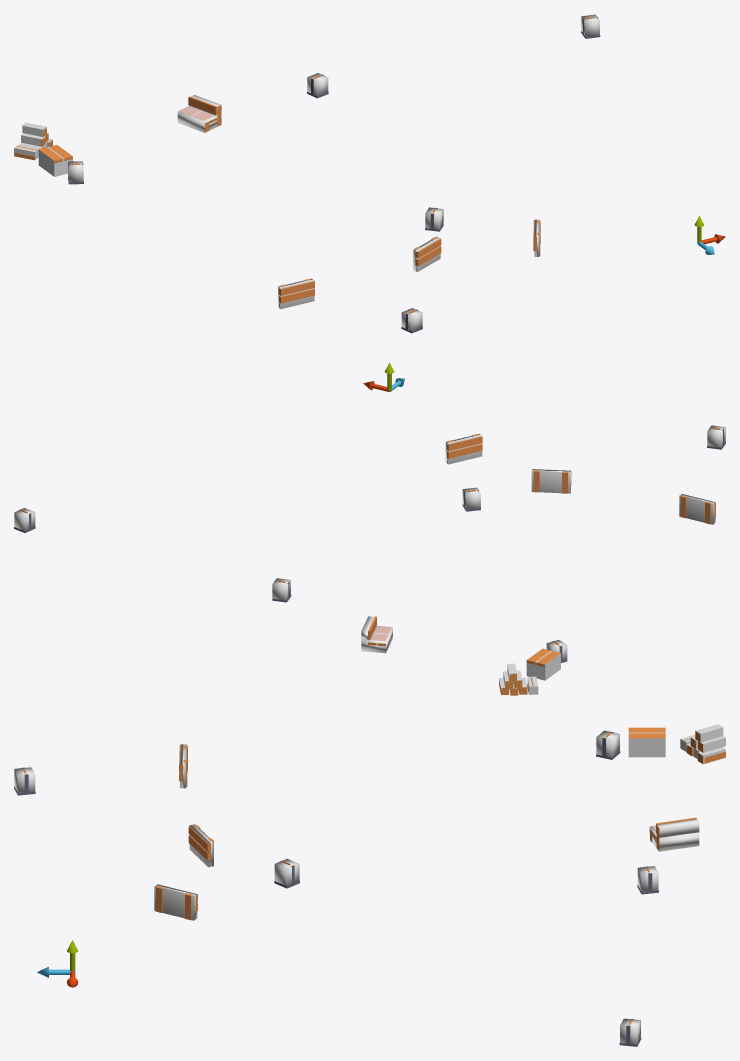
Rendered from sceneryDynamic.glb.
The picture shows the model from 3 angles, top to bottom: view 1: azimuth 30°, elevation 25°; view 2: azimuth 150°, elevation 25°; view 3: azimuth 270°, elevation 25°; orthographic projection. The views are drawn at different scales.
Visible parts, largest first — view 1: bench, fence.002, cube, cube.017; view 2: cube.003, cube.002, cube.017, fence.004; view 3: cube.005, cube.017, cube, cube.001, Cube.048, gizmo.
Boxes of the visible parts, x1=… form: bench: x1=180, y1=96, x2=221, y2=132; fence.002: x1=279, y1=278, x2=314, y2=303; cube: x1=177, y1=106, x2=221, y2=132; cube.017: x1=38, y1=147, x2=72, y2=176; cube.003: x1=531, y1=469, x2=570, y2=493; cube.002: x1=679, y1=494, x2=715, y2=524; cube.017: x1=526, y1=651, x2=560, y2=680; fence.004: x1=447, y1=434, x2=482, y2=458; cube.005: x1=154, y1=884, x2=197, y2=920; cube.017: x1=628, y1=732, x2=665, y2=757; cube: x1=649, y1=825, x2=699, y2=851; cube.001: x1=656, y1=819, x2=699, y2=837; Cube.048: x1=274, y1=858, x2=299, y2=885; gizmo: x1=37, y1=940, x2=78, y2=987.
Size of the model in its own units: 34.9 by 2.21 by 33.07.
